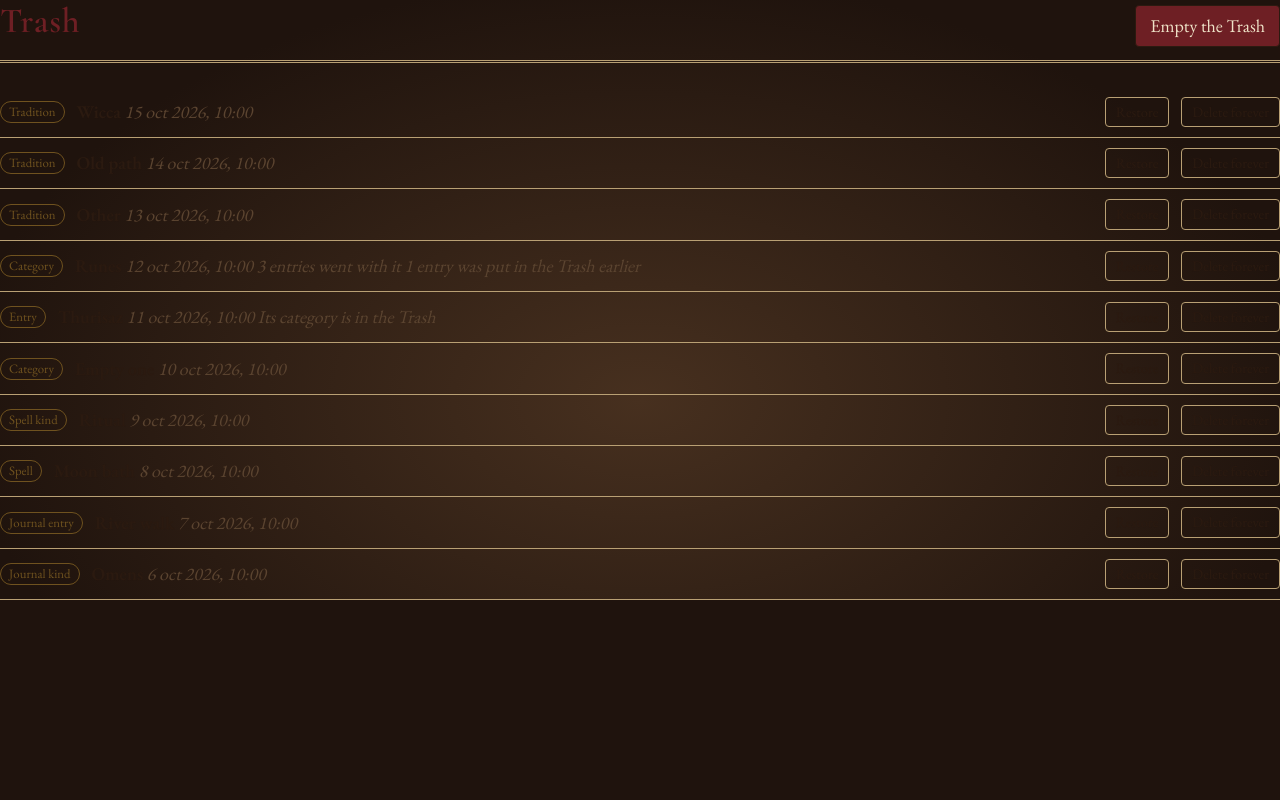
Test: Trash › shows a starter row under its translated name, in the row, the confirmation and the toast
Step 1. Click the button "Delete forever" in the row of "Wicca" → (1231, 112), box x1=1181 y1=97 x2=1279 y2=127
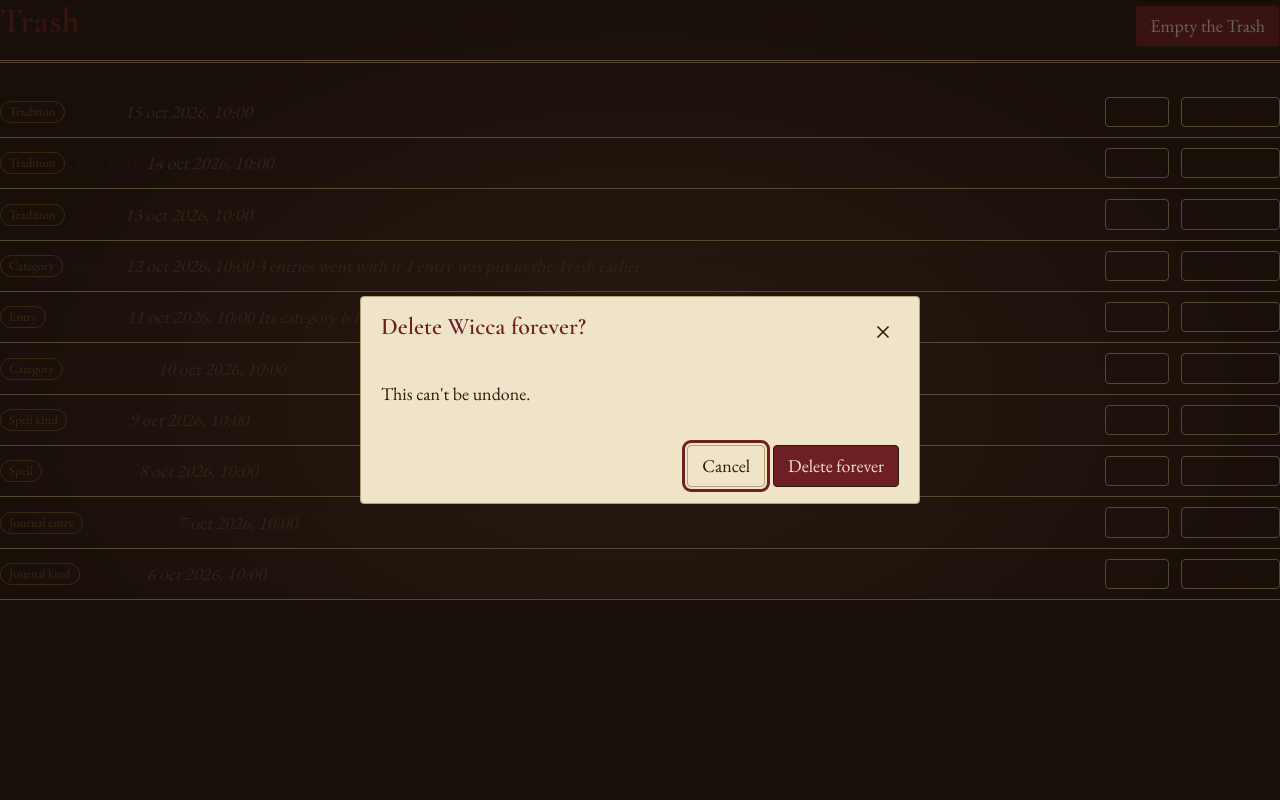
Expected: the heading "Delete Wicca forever?" is shown, x1=381 y1=313 x2=586 y2=342
Step 2. Click the button "Cancel" → (726, 466), box x1=687 y1=445 x2=765 y2=487
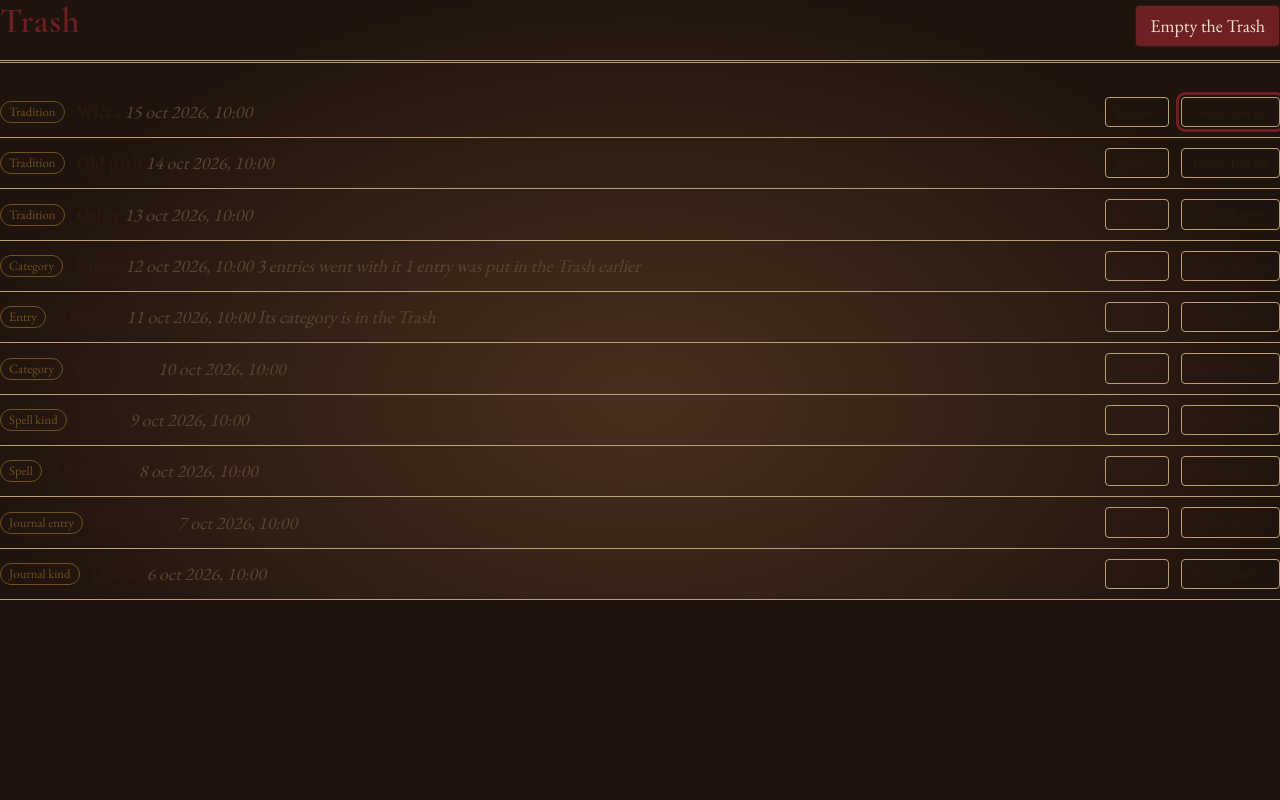
Step 3. Click the button "Restore" in the row of "Wicca" → (1137, 112), box x1=1105 y1=97 x2=1169 y2=127
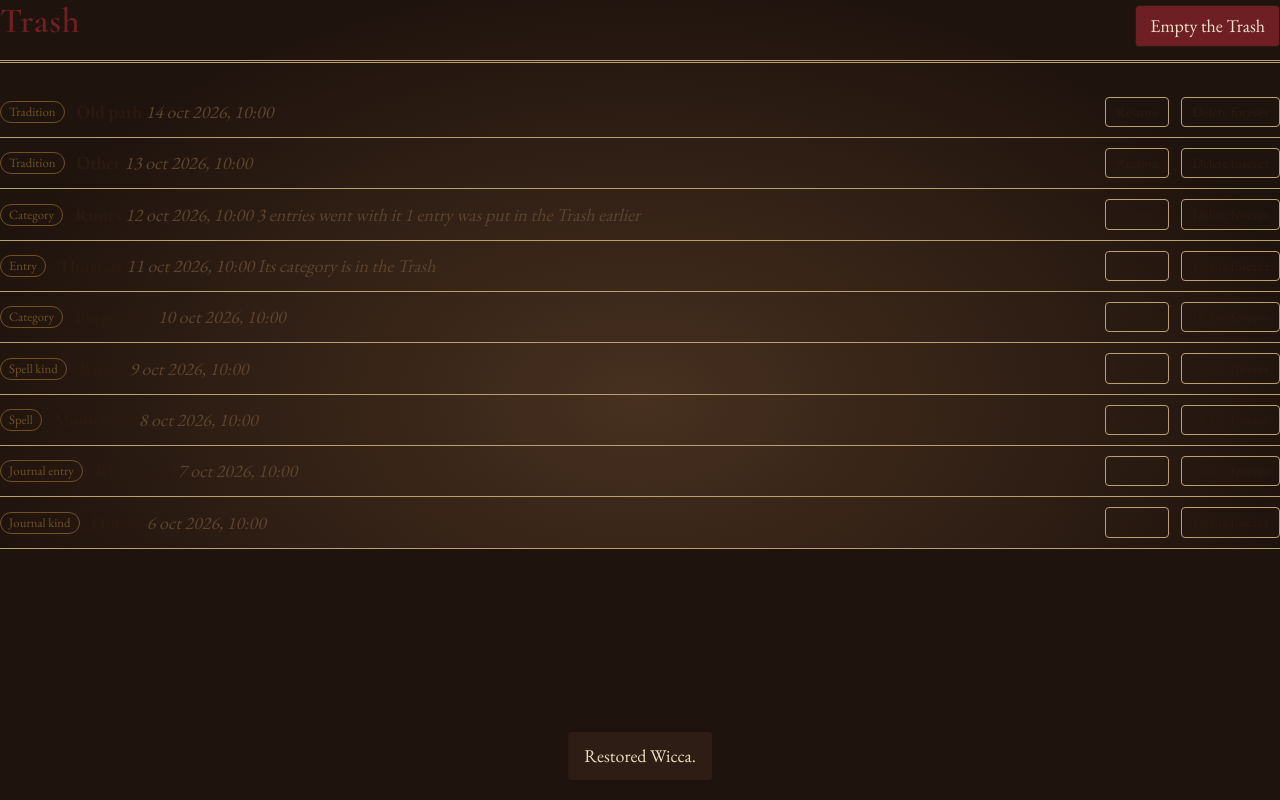
Expected: the text "Restored Wicca." is shown, x1=584 y1=742 x2=696 y2=770
